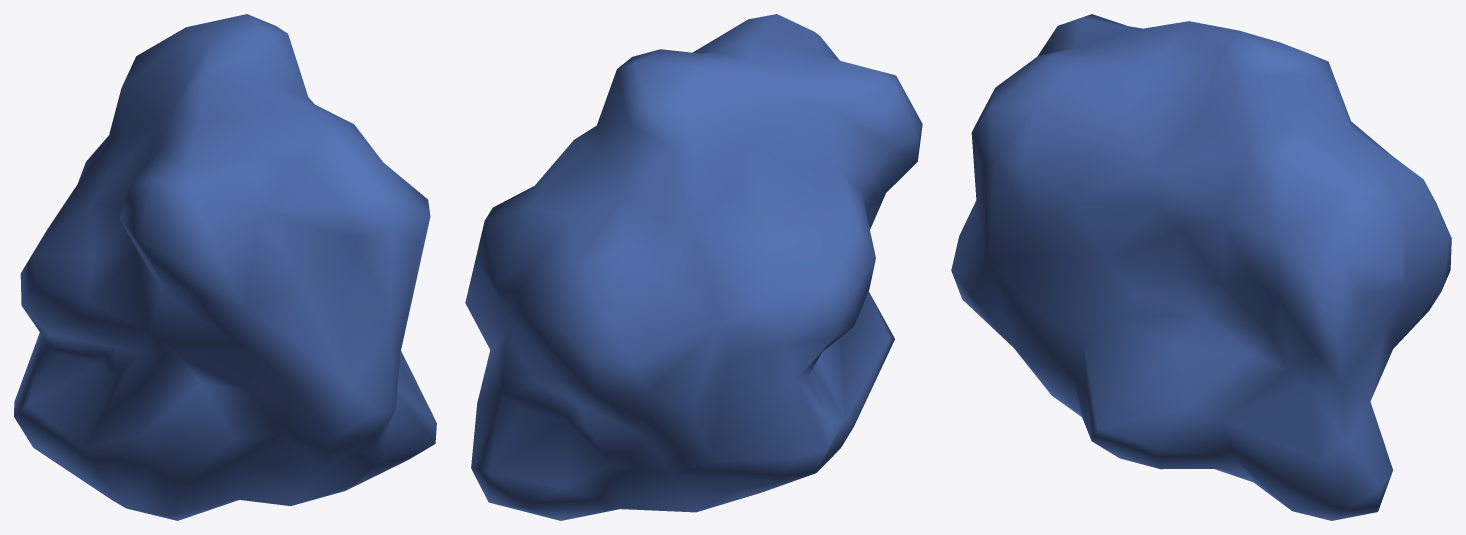
File: Mgenitalium_tmk_5tmp_0_1_0.dae
3 views of the same model, side by side, from view 1: azimuth 30°, elevation 25°; view 2: azimuth 150°, elevation 25°; view 3: azimuth 270°, elevation 25° (orthographic). The views are drawn at different scales.
Visible parts, largest first — view 1: CoarseMS_5tmp; view 2: CoarseMS_5tmp; view 3: CoarseMS_5tmp.
Boxes of the visible parts, x1,y1,x2,y2 form: CoarseMS_5tmp: (14, 14, 436, 520); CoarseMS_5tmp: (465, 14, 922, 520); CoarseMS_5tmp: (951, 14, 1451, 520).
Bounding box in the file's own units: 39.1 × 48.29 × 50.31.
